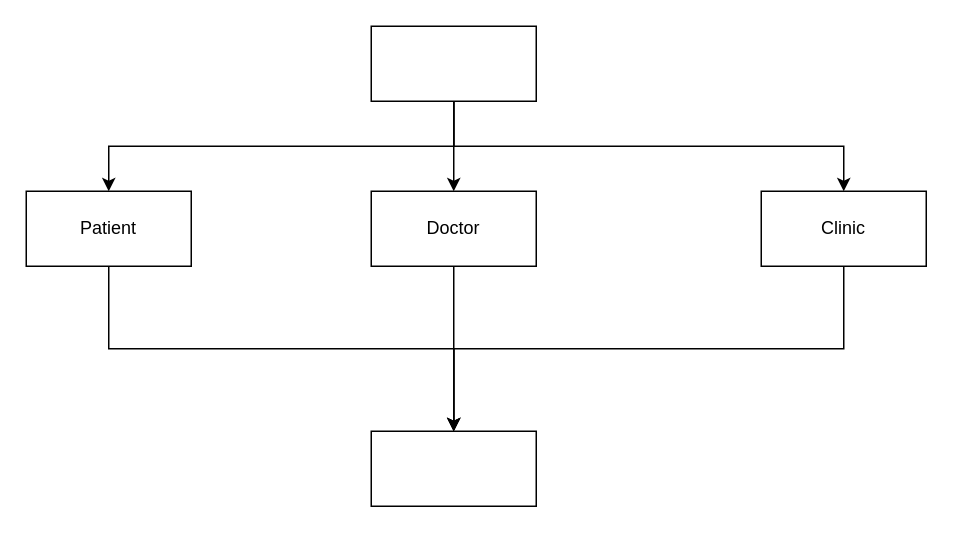
This 953x533 diagram has some shape labels left out. Here are the shapes that lost their labels. From the top down, the box of each, then its label:
(370, 25, 536, 101): System/Software
(370, 430, 536, 506): Appointment
